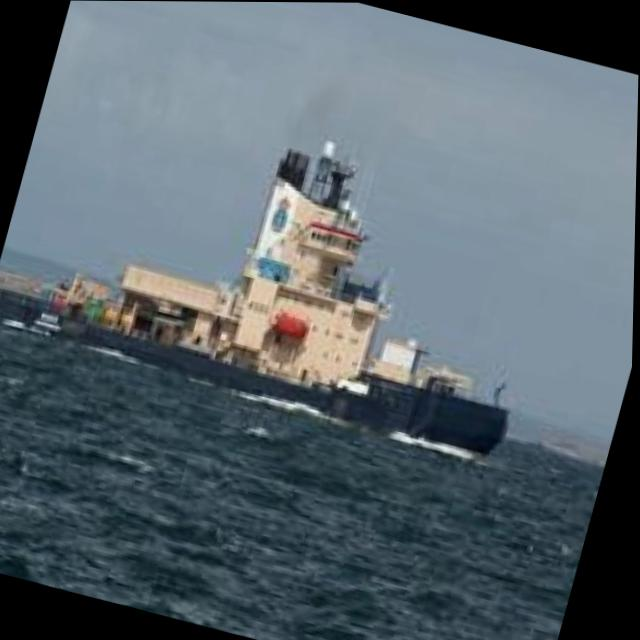ship2: (0, 139, 513, 454)
